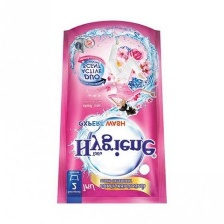book: (53, 18, 169, 207)
